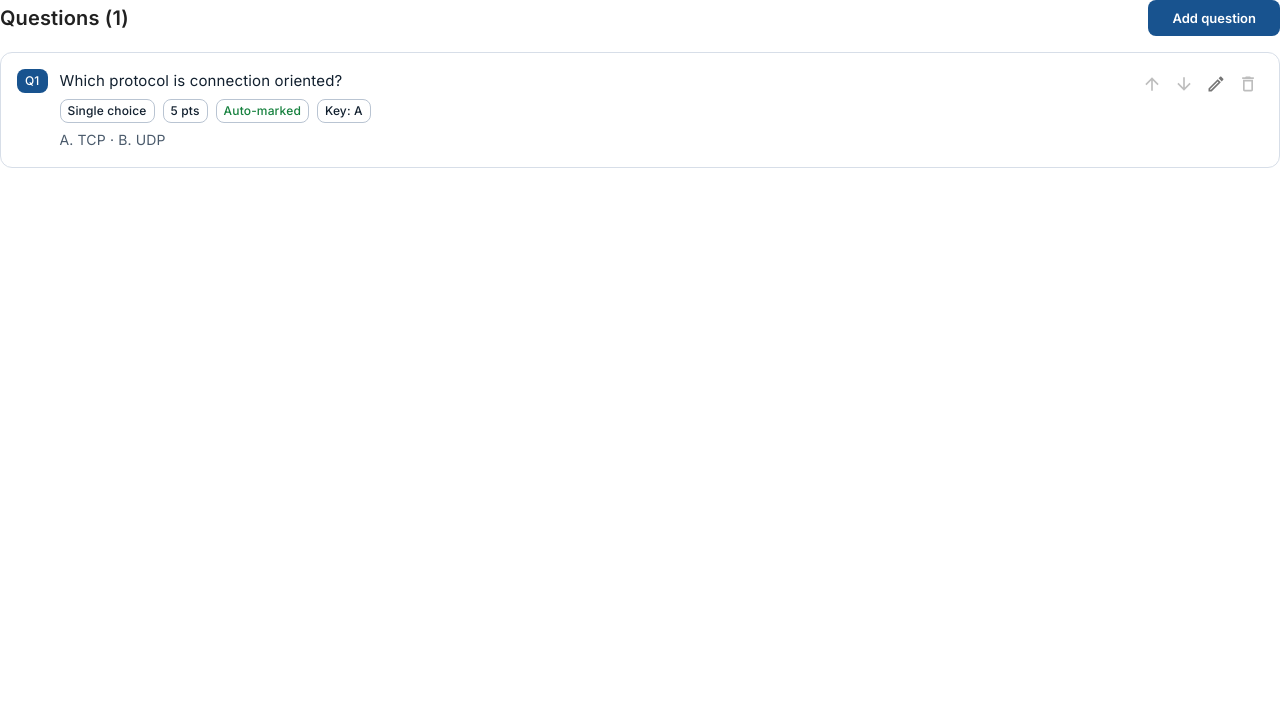
Test case: QuestionsTab › previews the draft through the student renderer
The image size is (1280, 720).
Click the button named "Edit question 1" at {"x": 1216, "y": 84}, box [1201,69,1231,99]
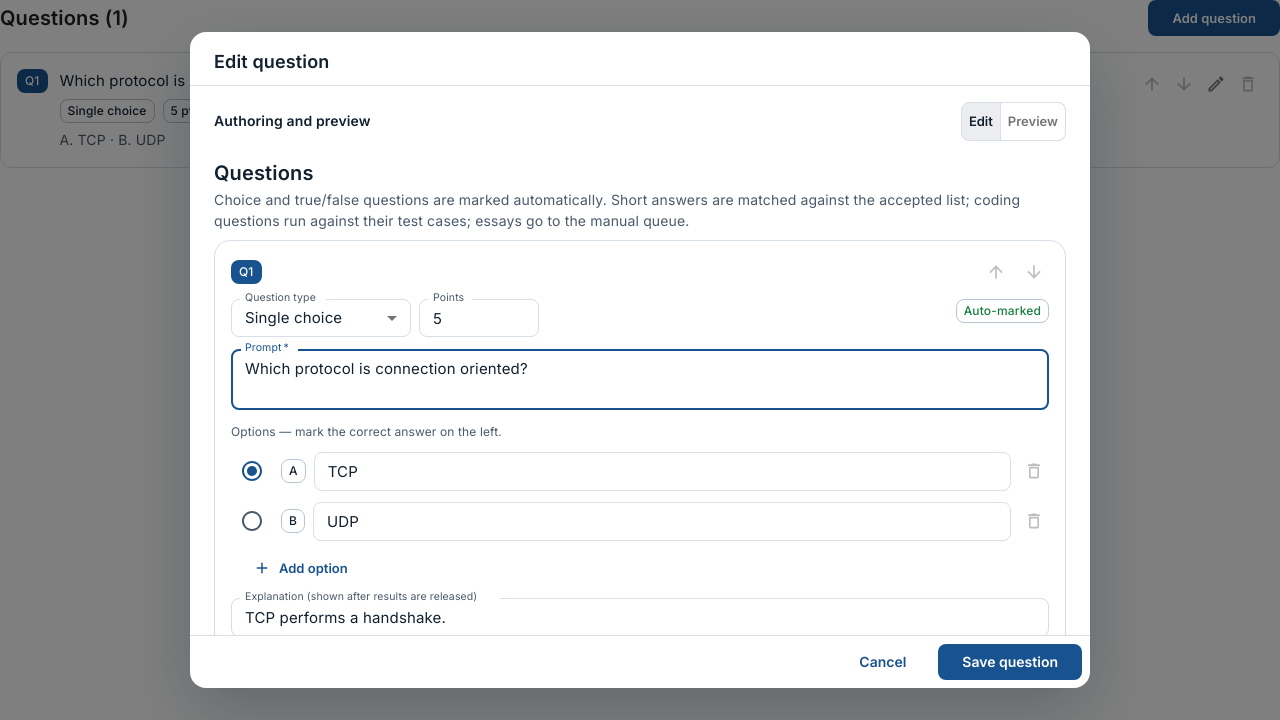
Check: the dialog is shown
Check: the dropdown named "Question type" is shown, box [245,308,342,327]
Click the button "Preview" at {"x": 1033, "y": 121}, box [1000,102,1066,141]
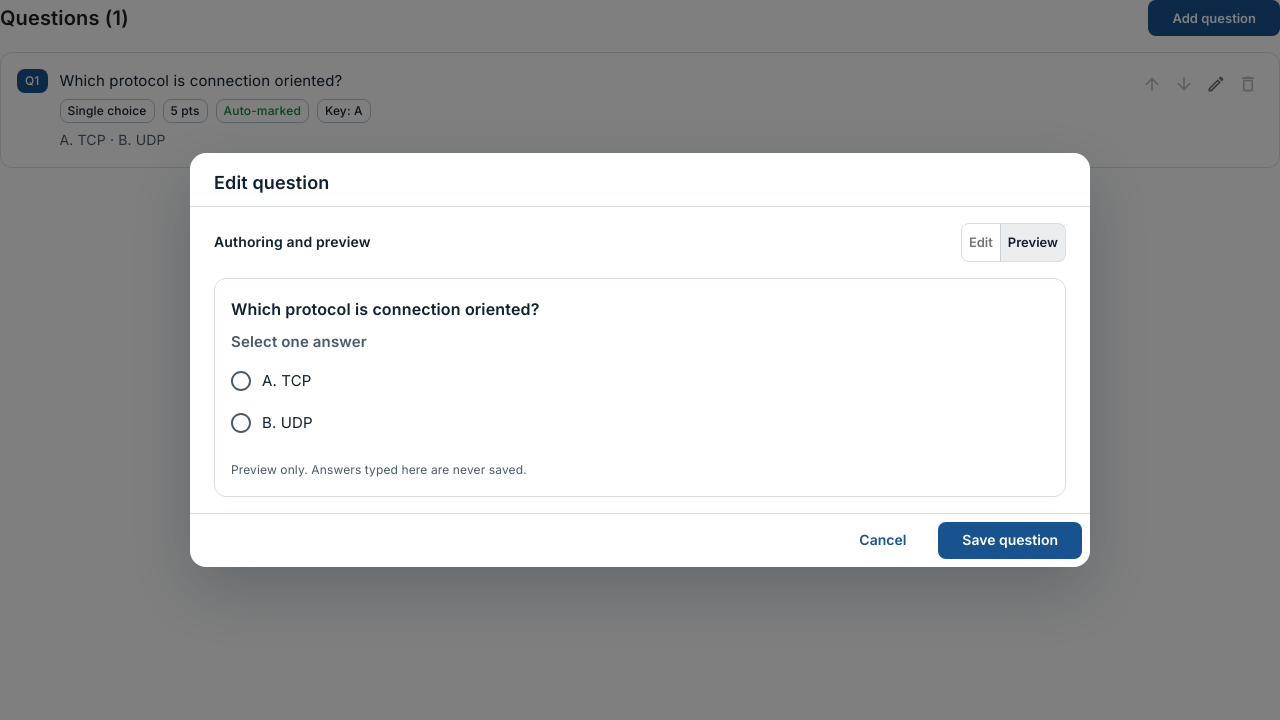
Check: the text "Select one answer" is shown, box [231,331,367,352]
Check: the label "Question type" is gone
Check: the text "Preview only. Answers typed here are never saved." is shown, box [231,462,527,477]
Click the radio button labelled "B. UDP" at {"x": 271, "y": 423}, box [229,411,313,435]
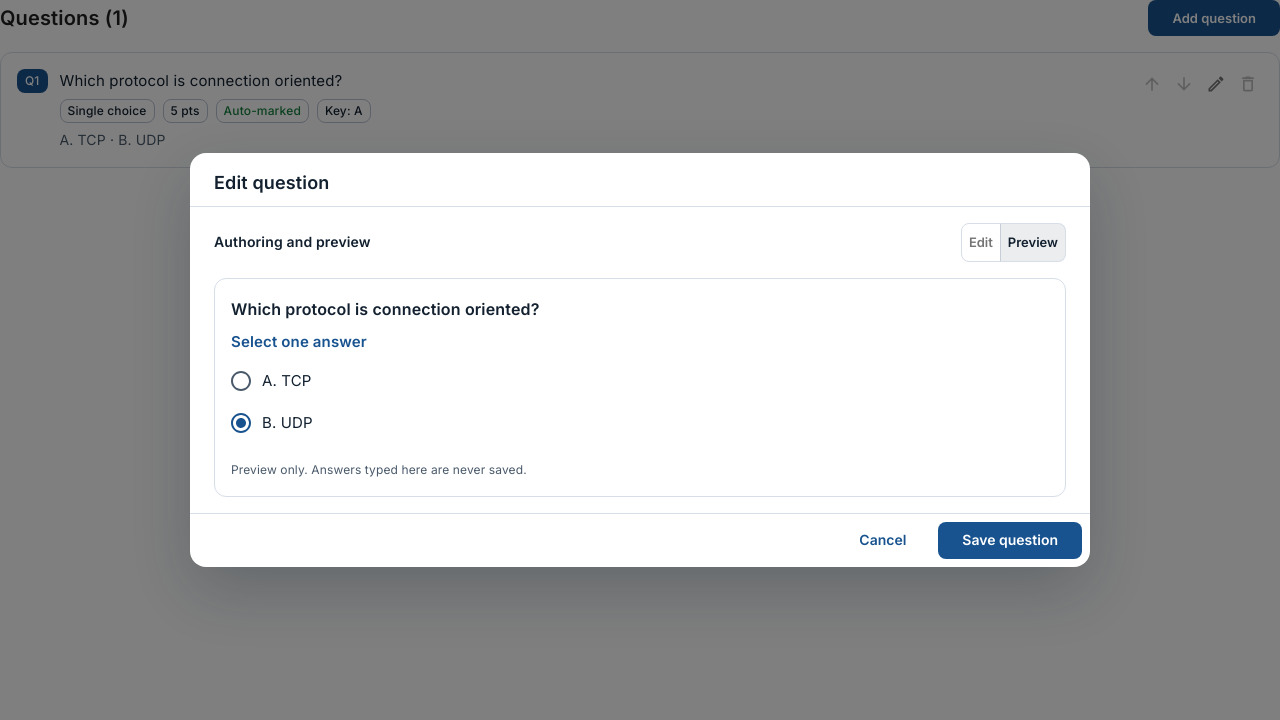
Check: the radio button labelled "B. UDP" is checked, box [229,411,313,435]
Click the button "Edit" at {"x": 981, "y": 242}, box [961,223,1001,262]
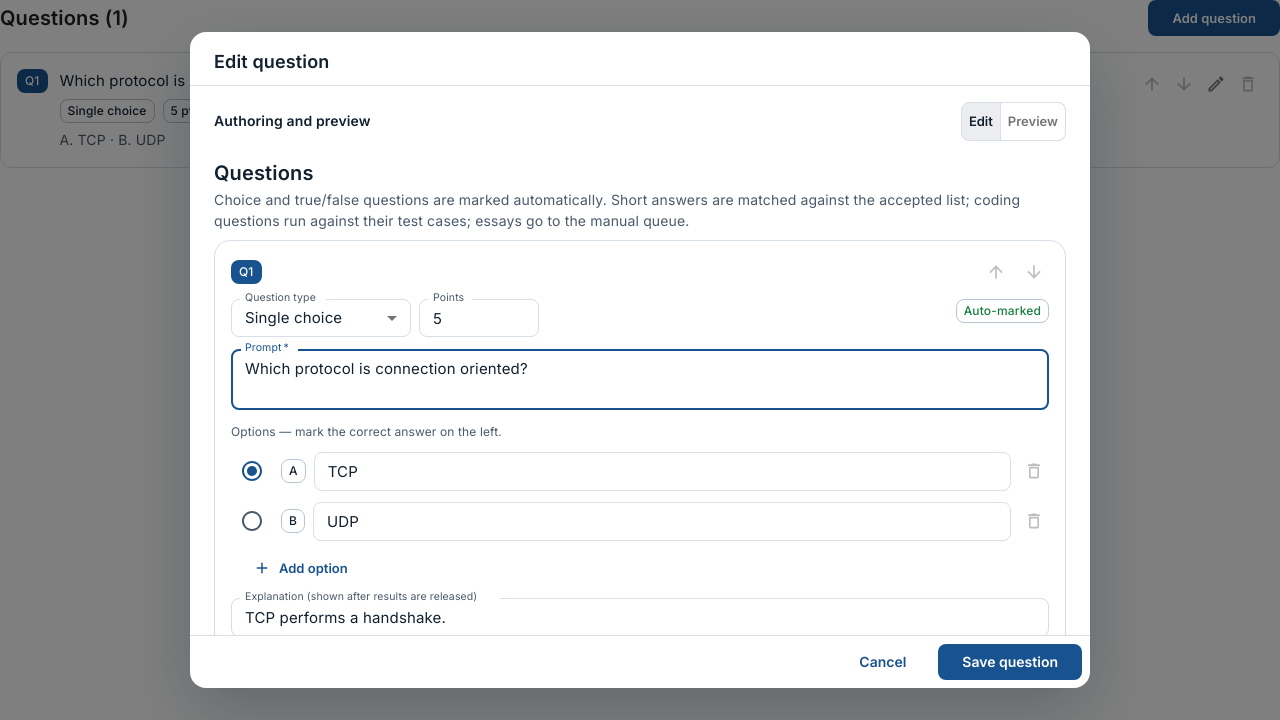
Check: the dropdown named "Question type" is shown, box [245,308,342,327]
